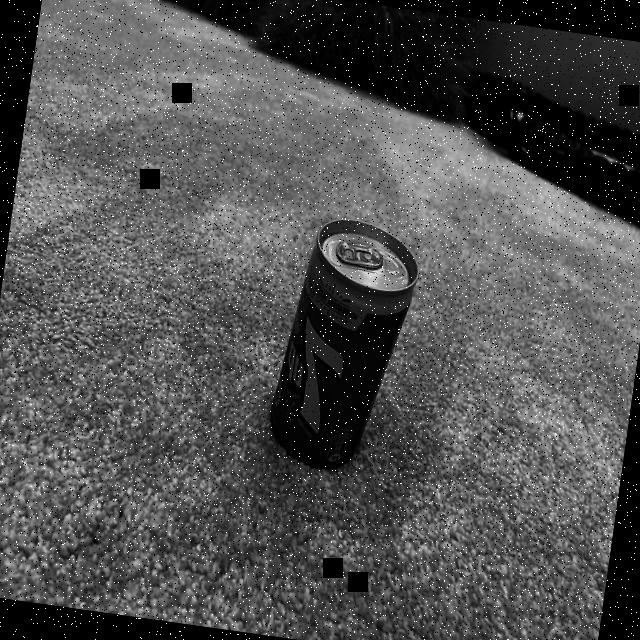can: (256, 212, 424, 478)
